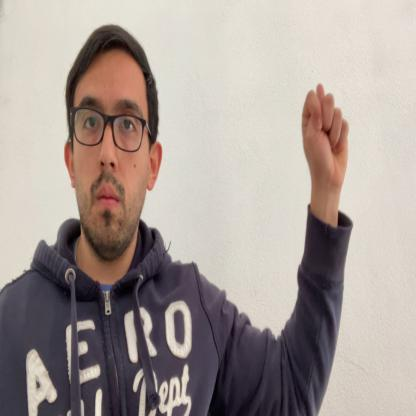T: (301, 83, 350, 200)
